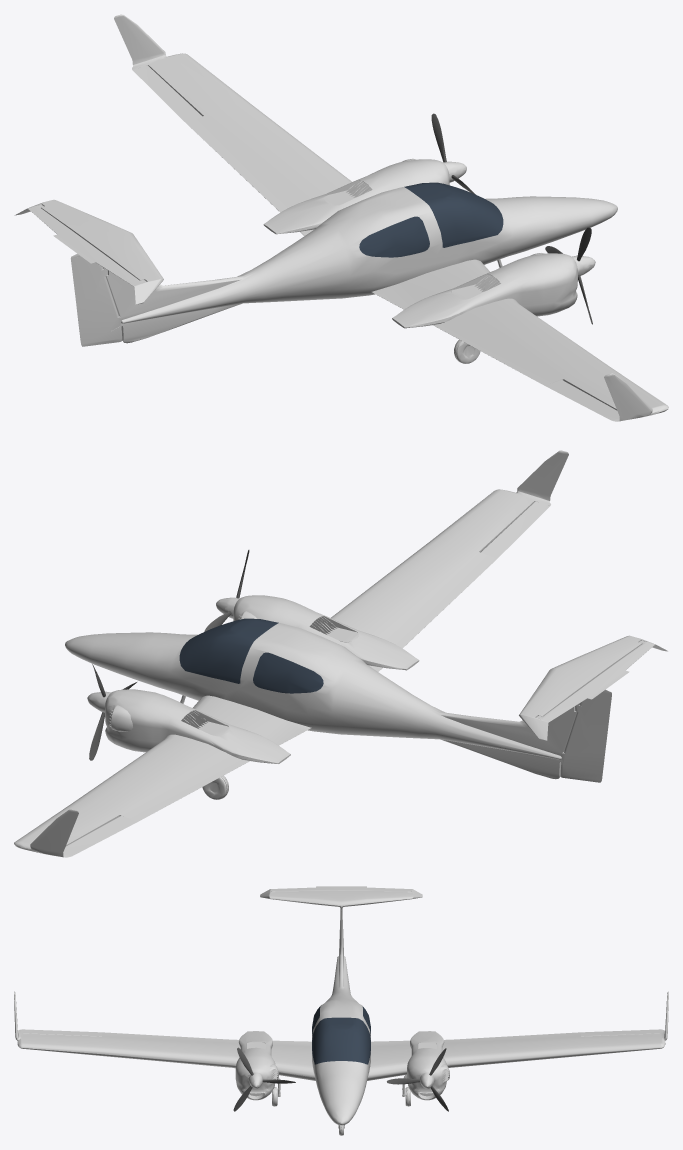
3 renders of one model, top to bottom at view 1: azimuth 30°, elevation 25°; view 2: azimuth 150°, elevation 25°; view 3: azimuth 270°, elevation 25°, orthographic. The views are drawn at different scales.
Visible parts, largest first — view 1: body, glass; view 2: body, glass; view 3: body, glass, spin (×2).
Part boxes in pixels (x1,y1,x2,y2): body: (14, 14, 668, 421); glass: (359, 182, 503, 257); body: (14, 450, 667, 857); glass: (179, 618, 323, 693); body: (14, 886, 668, 1135); glass: (312, 1006, 370, 1064); spin (×2): (233, 1047, 448, 1111).
Size of the model in its own units: 1.41 by 0.4068 by 2.2.
